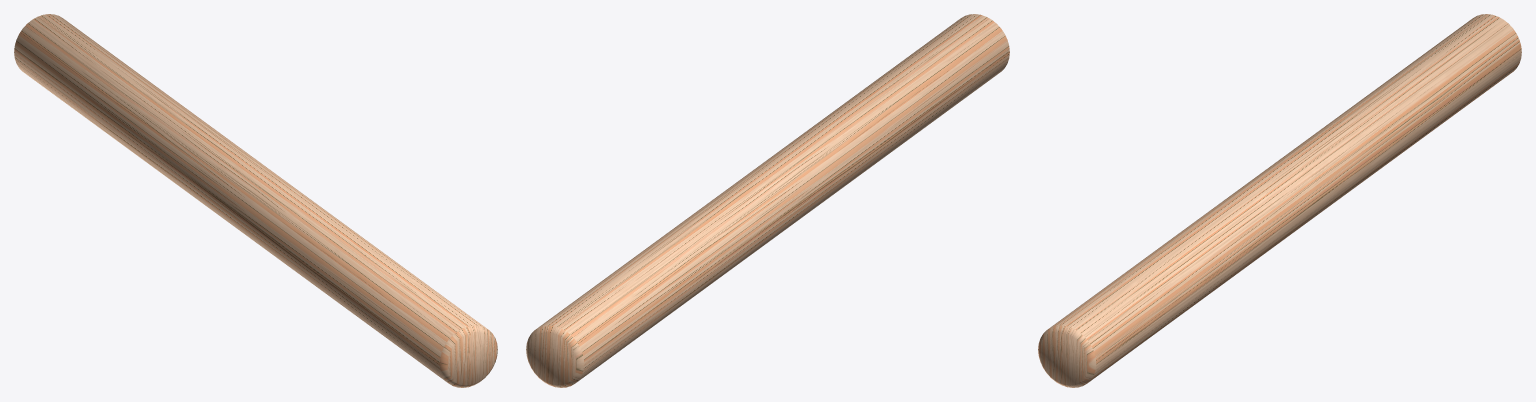
File: kitchen_nobasibou.fbx
3 views of the same model, side by side, from view 1: azimuth 30°, elevation 25°; view 2: azimuth 150°, elevation 25°; view 3: azimuth 330°, elevation 25° (orthographic).
Parts seen in each view (by area): view 1: nobashibou; view 2: nobashibou; view 3: nobashibou.
Part boxes in pixels (<box>): nobashibou: <box>14,14,497,387</box>; nobashibou: <box>526,14,1009,387</box>; nobashibou: <box>1038,14,1521,387</box>.
Size of the model in its own units: 8.18 by 8.18 by 105.
1 material, 1 textured.
